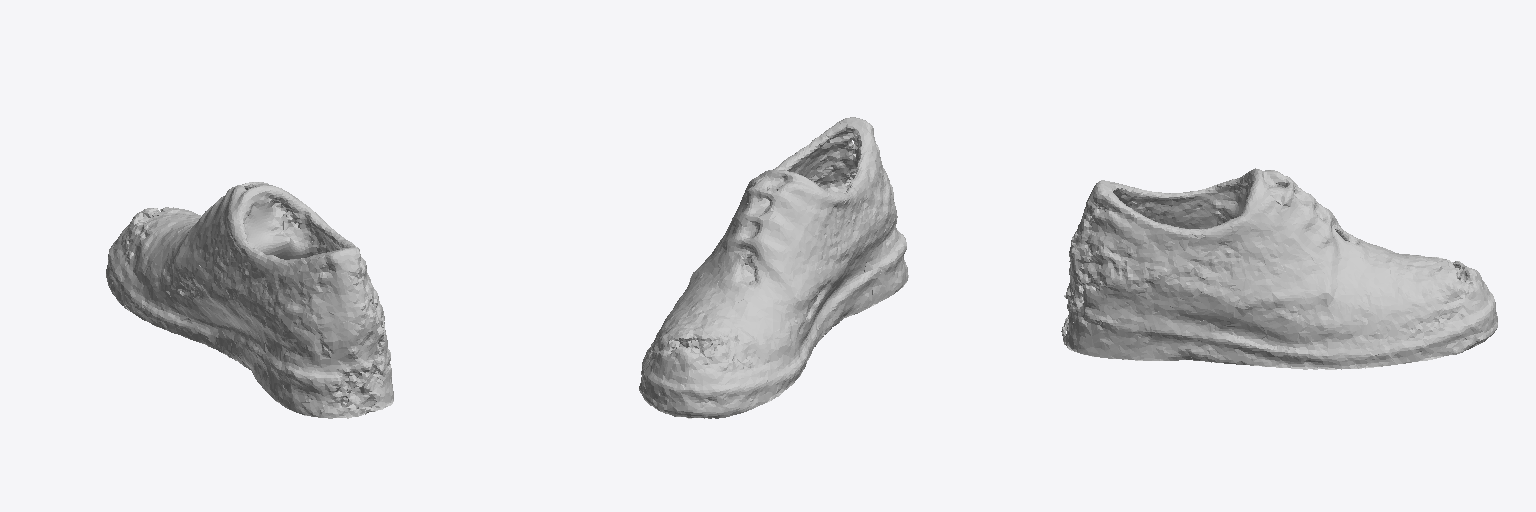
File: class10.obj
3 renders of one model, left to right at view 1: azimuth 30°, elevation 25°; view 2: azimuth 150°, elevation 25°; view 3: azimuth 270°, elevation 25°, orthographic.
Parts seen in each view (by area): view 1: Mesh_0.004; view 2: Mesh_0.004; view 3: Mesh_0.004.
Boxes of the visible parts, <box> form: Mesh_0.004: <box>106,182,393,418</box>; Mesh_0.004: <box>639,117,908,418</box>; Mesh_0.004: <box>1061,168,1497,369</box>.
Bounding box in the file's own units: 0.1141 × 0.1202 × 0.3017.